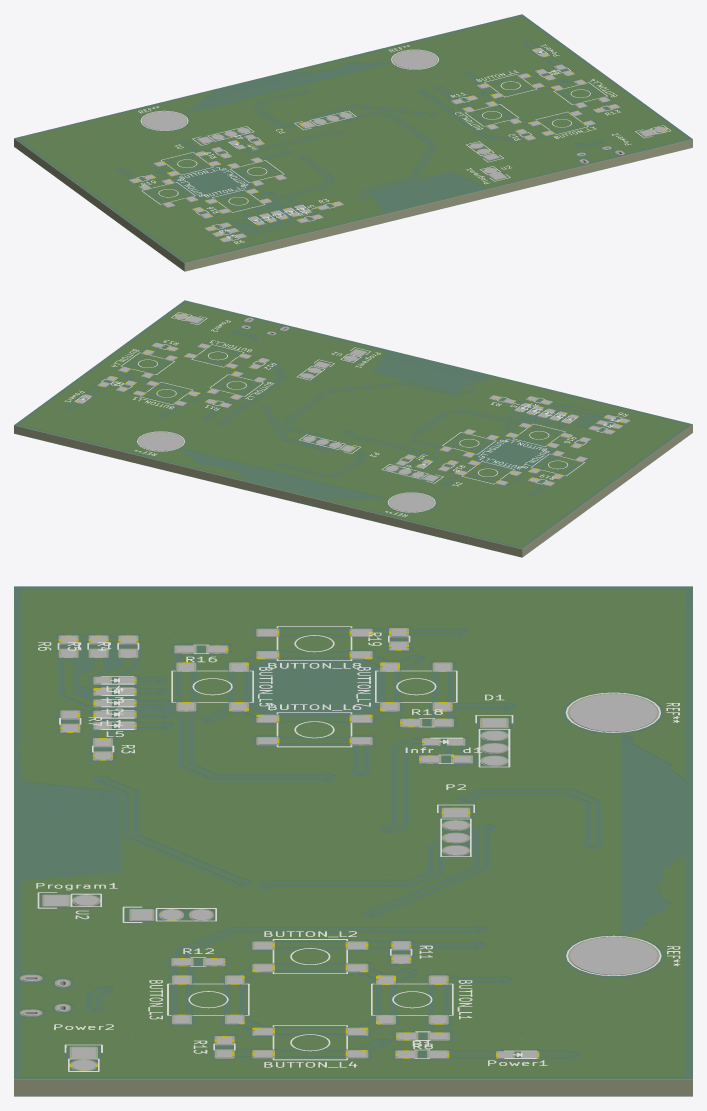
The model's file is bsidescpt2016badge.glb.
3 renders of one model, top to bottom at view 1: azimuth 30°, elevation 25°; view 2: azimuth 150°, elevation 25°; view 3: azimuth 270°, elevation 25°, orthographic. The views are drawn at different scales.
Parts seen in each view (by area): view 1: =>[0:1:1:7], =>[0:1:1:2], =>[0:1:1:9], =>[0:1:1:5]; view 2: =>[0:1:1:7], =>[0:1:1:2], =>[0:1:1:9], =>[0:1:1:5]; view 3: =>[0:1:1:7], =>[0:1:1:2], =>[0:1:1:9], =>[0:1:1:5].
Part boxes in pixels (x1,y1,x2,y2): =>[0:1:1:7]: [14, 14, 692, 271]; =>[0:1:1:2]: [20, 17, 687, 260]; =>[0:1:1:9]: [14, 15, 692, 271]; =>[0:1:1:5]: [137, 44, 670, 244]; =>[0:1:1:7]: [14, 300, 692, 557]; =>[0:1:1:2]: [19, 303, 686, 546]; =>[0:1:1:9]: [14, 301, 692, 557]; =>[0:1:1:5]: [64, 312, 628, 516]; =>[0:1:1:7]: [14, 586, 692, 1096]; =>[0:1:1:2]: [19, 590, 685, 1076]; =>[0:1:1:9]: [14, 587, 692, 1096]; =>[0:1:1:5]: [36, 626, 680, 1071].
Bounding box in the file's own units: 0.0996 × 0.00166 × 0.0579.
4 materials, 4 textured.
